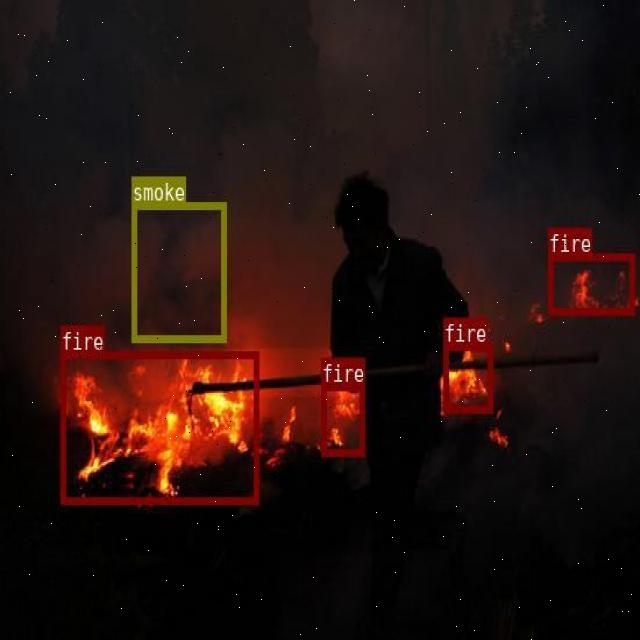fire: (61, 350, 259, 503), (547, 253, 634, 314), (443, 343, 492, 411), (320, 382, 364, 454)
smoke: (131, 202, 226, 341)
